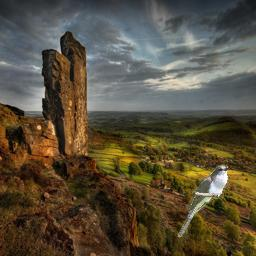Cuckoo: (177, 165, 230, 238)
